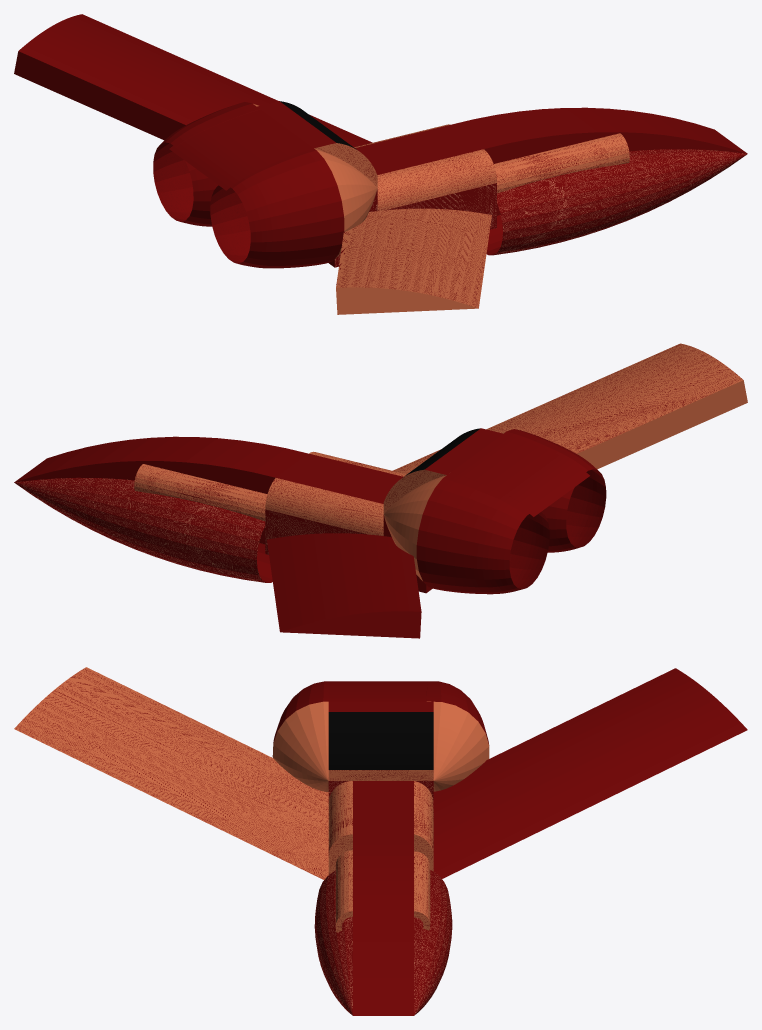
The picture shows the model from 3 angles, top to bottom: view 1: azimuth 30°, elevation 25°; view 2: azimuth 150°, elevation 25°; view 3: azimuth 270°, elevation 25°; orthographic projection. The views are drawn at different scales.
Visible parts, largest first — view 1: mesh1_mesh1-geometry, mesh23_mesh23-geometry, mesh25_mesh25-geometry; view 2: mesh1_mesh1-geometry, mesh25_mesh25-geometry, mesh23_mesh23-geometry, mesh2_mesh2-geometry; view 3: mesh1_mesh1-geometry, mesh23_mesh23-geometry, mesh25_mesh25-geometry, mesh2_mesh2-geometry.
Boxes of the visible parts, left/top/right/bottom form: mesh1_mesh1-geometry: left=153, top=101, right=747, bottom=268; mesh23_mesh23-geometry: left=14, top=14, right=372, bottom=147; mesh25_mesh25-geometry: left=336, top=208, right=491, bottom=314; mesh1_mesh1-geometry: left=14, top=428, right=606, bottom=594; mesh25_mesh25-geometry: left=392, top=343, right=747, bottom=474; mesh23_mesh23-geometry: left=267, top=533, right=421, bottom=638; mesh2_mesh2-geometry: left=134, top=464, right=267, bottom=527; mesh1_mesh1-geometry: left=272, top=681, right=489, bottom=1015; mesh23_mesh23-geometry: left=433, top=668, right=747, bottom=878; mesh25_mesh25-geometry: left=14, top=667, right=328, bottom=879; mesh2_mesh2-geometry: left=414, top=851, right=430, bottom=930.
Size of the model in its own units: 0.6183 by 0.1716 by 0.767.
